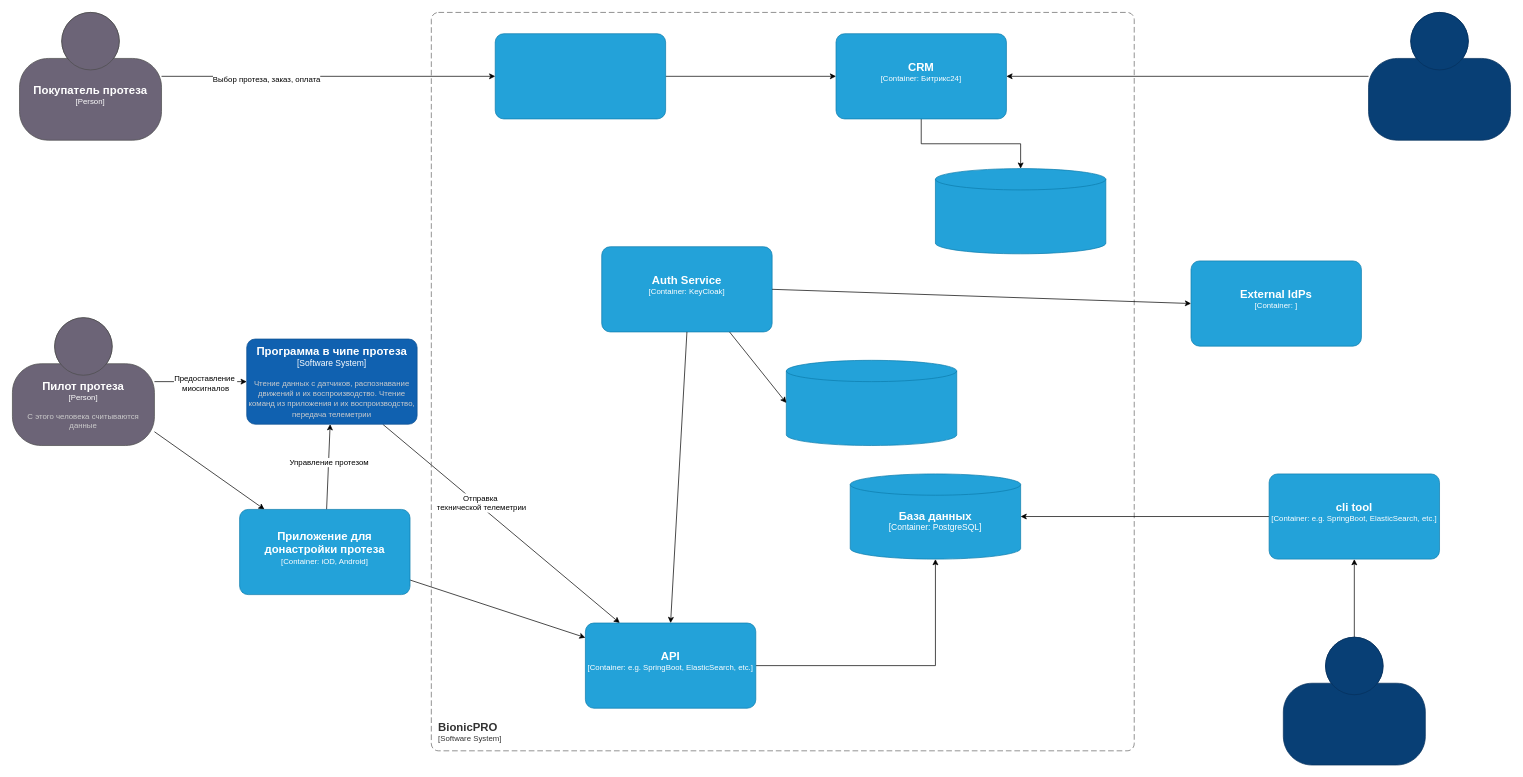
This 1523x777 diagram has some shape labels left out. Each missing label, with the centre of its shape:
"CRM DB [Container: e.g. Oracle Database 12]" goes at pixel 1020 211.
"ML-инженер [Person]" goes at pixel 1354 701.
"Session DB [Container: Redis]" goes at pixel 871 403.
"Интернет-магазин [Container: Битрикс24]" goes at pixel 580 76.
"Оператор производства [Person]" goes at pixel 1439 76.
